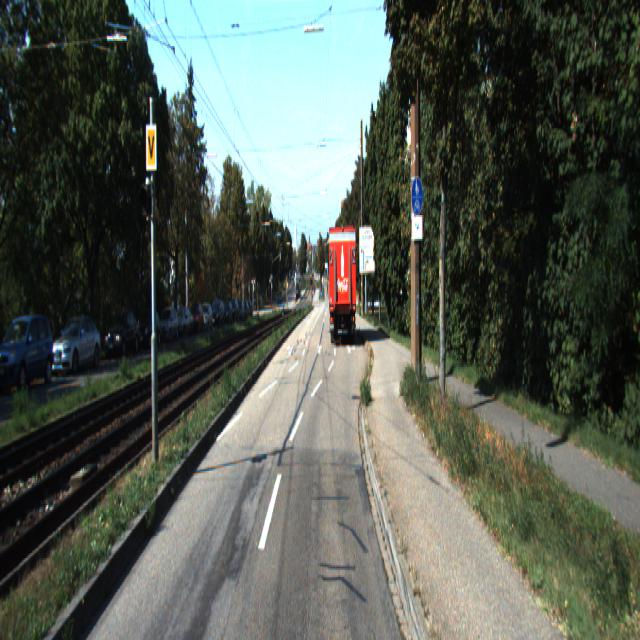Car: (0, 313, 59, 395), (327, 225, 358, 348), (49, 314, 103, 375), (103, 311, 140, 360), (136, 308, 162, 351), (155, 309, 178, 346), (188, 303, 205, 335)
